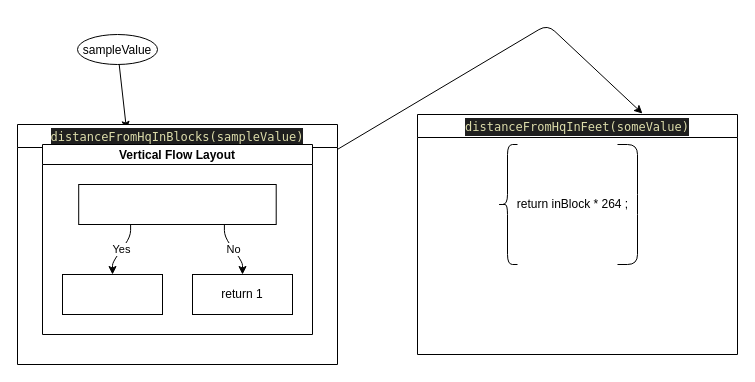
Image size: 755x382. Some labels were removed from this diagram. The centre of each missing label's shape, as x and y in pixels:
"return 8" goes at (x=112, y=294).
"sampleValue is 50 or 43" goes at (x=177, y=204).
